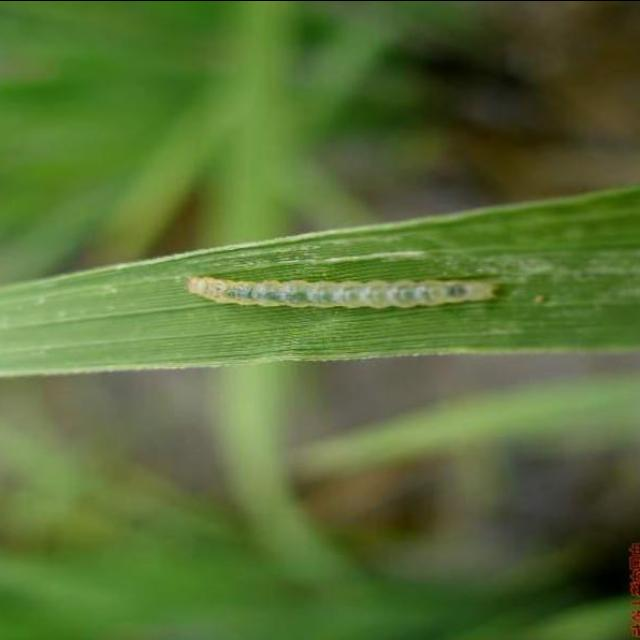leaf folder: (187, 275, 498, 306)
